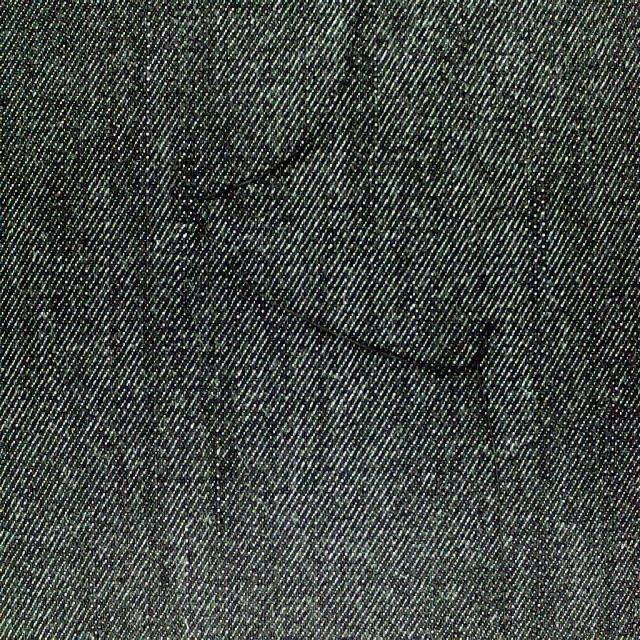defect: (175, 91, 518, 638)
